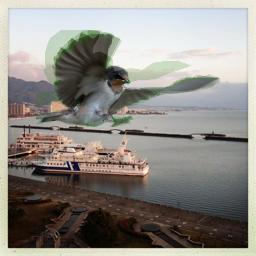Swallow: (36, 30, 220, 127)
